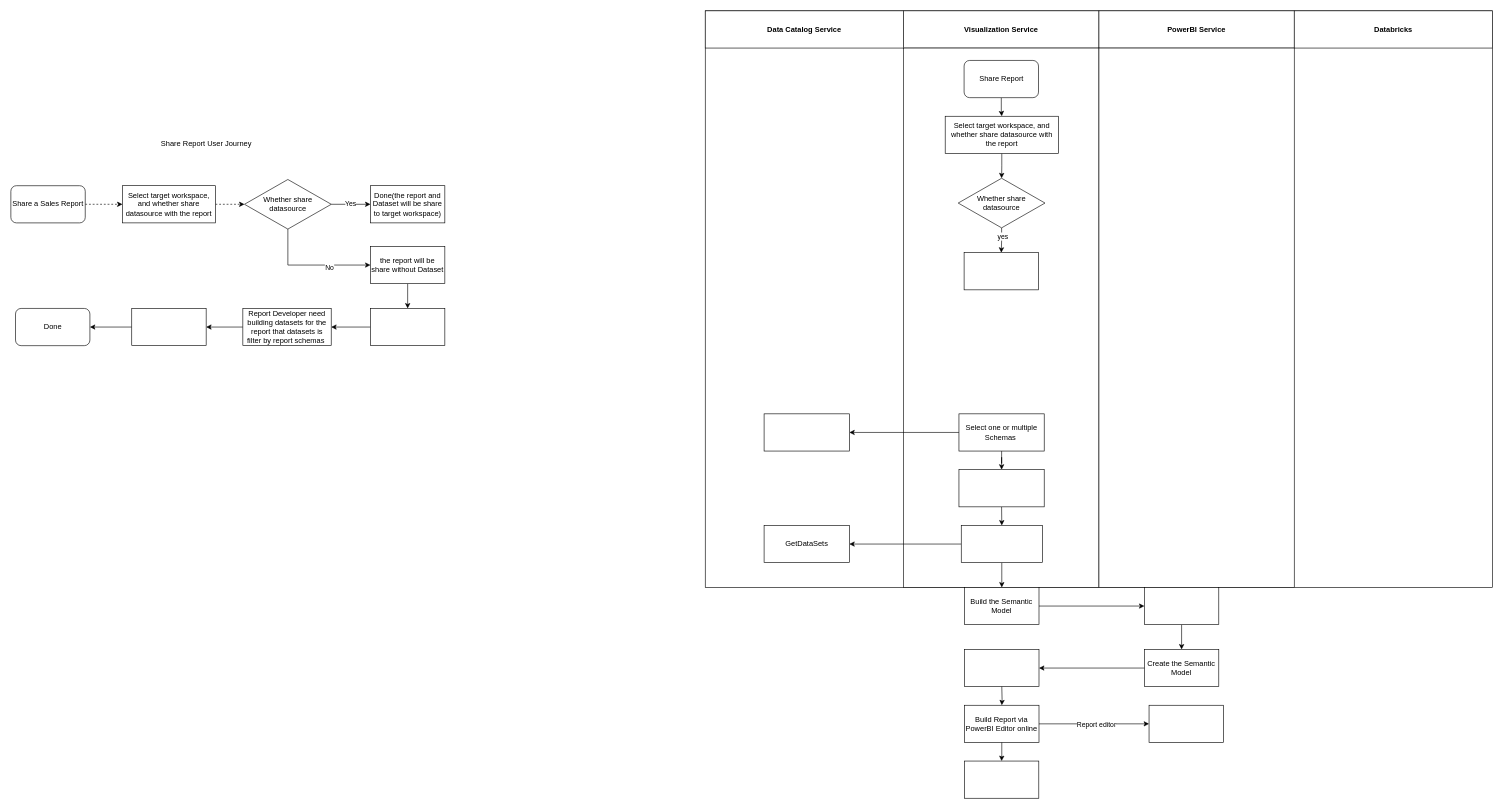
This 1504x809 diagram has some shape labels left out. Each missing label, with the centre of its shape:
"Create the Datasource connection" goes at (x=1181, y=606).
"GetSchemas" goes at (x=806, y=432).
"Make the relationship between multiple Schemas" goes at (x=1001, y=488).
"Report developer will find the report in target workspace" goes at (x=407, y=327).
"Save report info" goes at (x=1001, y=779).
"Save Sales Report" goes at (x=1185, y=723).
"Save the new Semantic Model info ID, Name" goes at (x=1001, y=668).
"Select DataSets that filter by Schemas of DataModel" goes at (x=1001, y=544).
"View Report" goes at (x=168, y=327).
